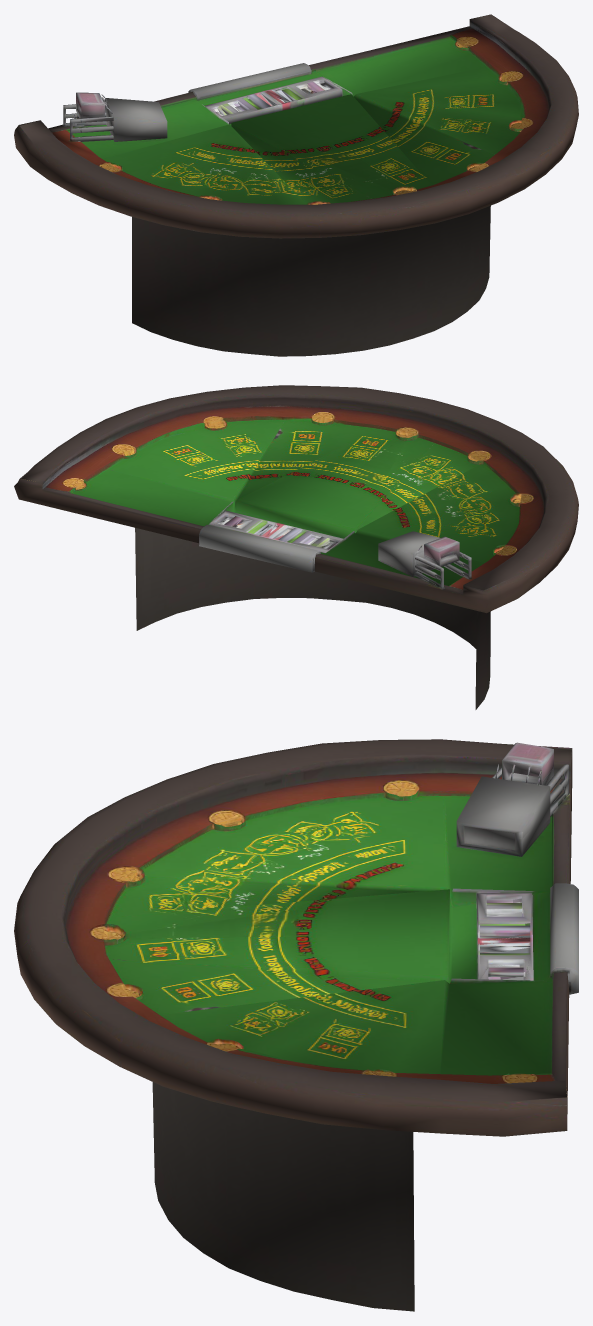
Rendered from selected.glb.
The picture shows the model from 3 angles, top to bottom: view 1: azimuth 30°, elevation 25°; view 2: azimuth 150°, elevation 25°; view 3: azimuth 270°, elevation 25°; orthographic projection. The views are drawn at different scales.
Parts seen in each view (by area): view 1: tripo_node_d920c481-0fe0-4fc3-9bf6-68003453708a; view 2: tripo_node_d920c481-0fe0-4fc3-9bf6-68003453708a; view 3: tripo_node_d920c481-0fe0-4fc3-9bf6-68003453708a.
Boxes of the visible parts, <box> form: tripo_node_d920c481-0fe0-4fc3-9bf6-68003453708a: <box>14,14,578,356</box>; tripo_node_d920c481-0fe0-4fc3-9bf6-68003453708a: <box>14,385,578,709</box>; tripo_node_d920c481-0fe0-4fc3-9bf6-68003453708a: <box>14,739,578,1311</box>.
Size of the model in its own units: 0.998 by 0.3926 by 0.6582.
1 material, 1 textured.
